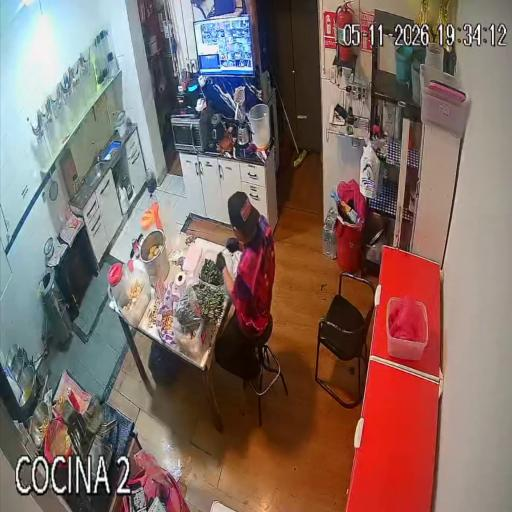Balde: (249, 104, 270, 150)
Envase Ketchup: (66, 386, 79, 411)
Envase Llajua: (59, 395, 65, 409)
Jarra1: (108, 263, 129, 303)
Jarra2: (141, 208, 157, 236)
Jarra3: (158, 192, 178, 240)
JarraLicuadora: (73, 174, 83, 200)
Microondas: (171, 110, 211, 153)
Persona1: (215, 191, 275, 383)
Taper: (194, 247, 233, 292)
Taper2: (173, 321, 209, 362)
Taper3: (115, 268, 151, 327)
Taper4: (386, 297, 429, 360)
olla1: (140, 229, 169, 285)
